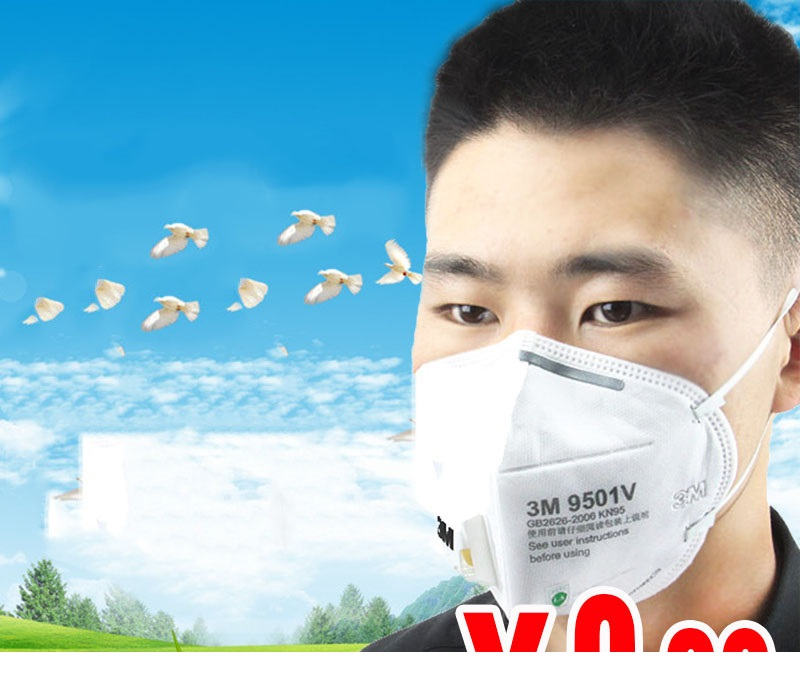face_mask: (406, 129, 758, 568)
